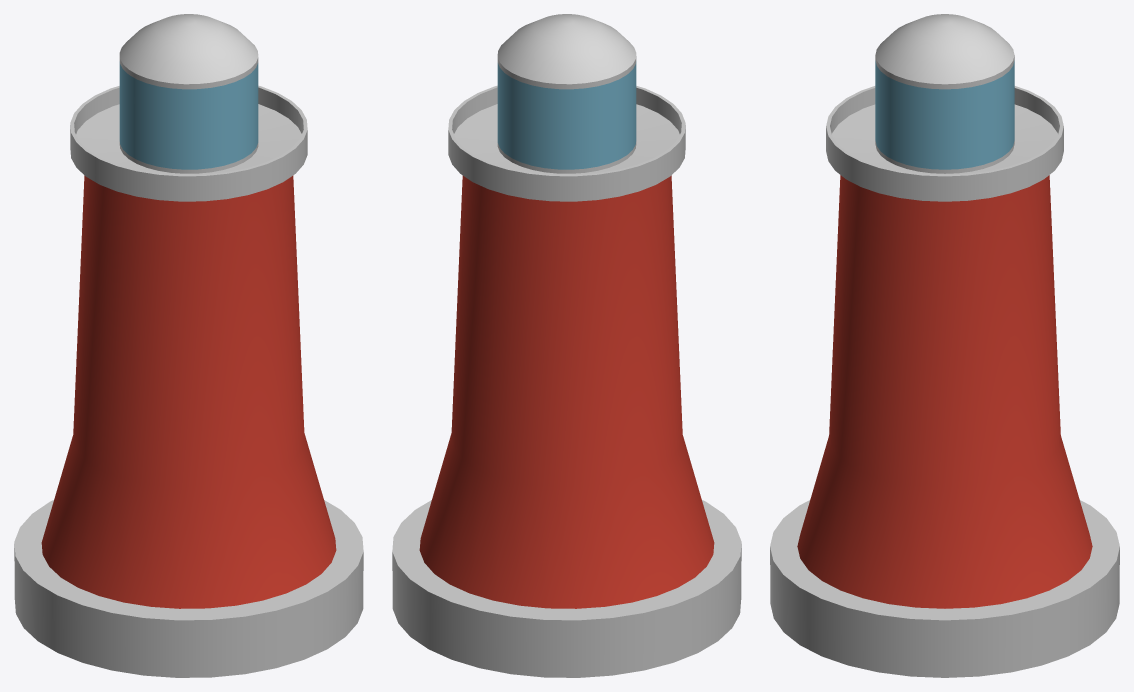
Rendered from Lighthouse.fbx.
3 renders of one model, left to right at view 1: azimuth 30°, elevation 25°; view 2: azimuth 150°, elevation 25°; view 3: azimuth 270°, elevation 25°, orthographic.
Parts seen in each view (by area): view 1: Lighthouse; view 2: Lighthouse; view 3: Lighthouse.
Boxes of the visible parts, <box> form: Lighthouse: <box>14,14,363,677</box>; Lighthouse: <box>392,14,741,677</box>; Lighthouse: <box>770,14,1119,677</box>.
Bounding box in the file's own units: 7082 × 13017 × 7082.
